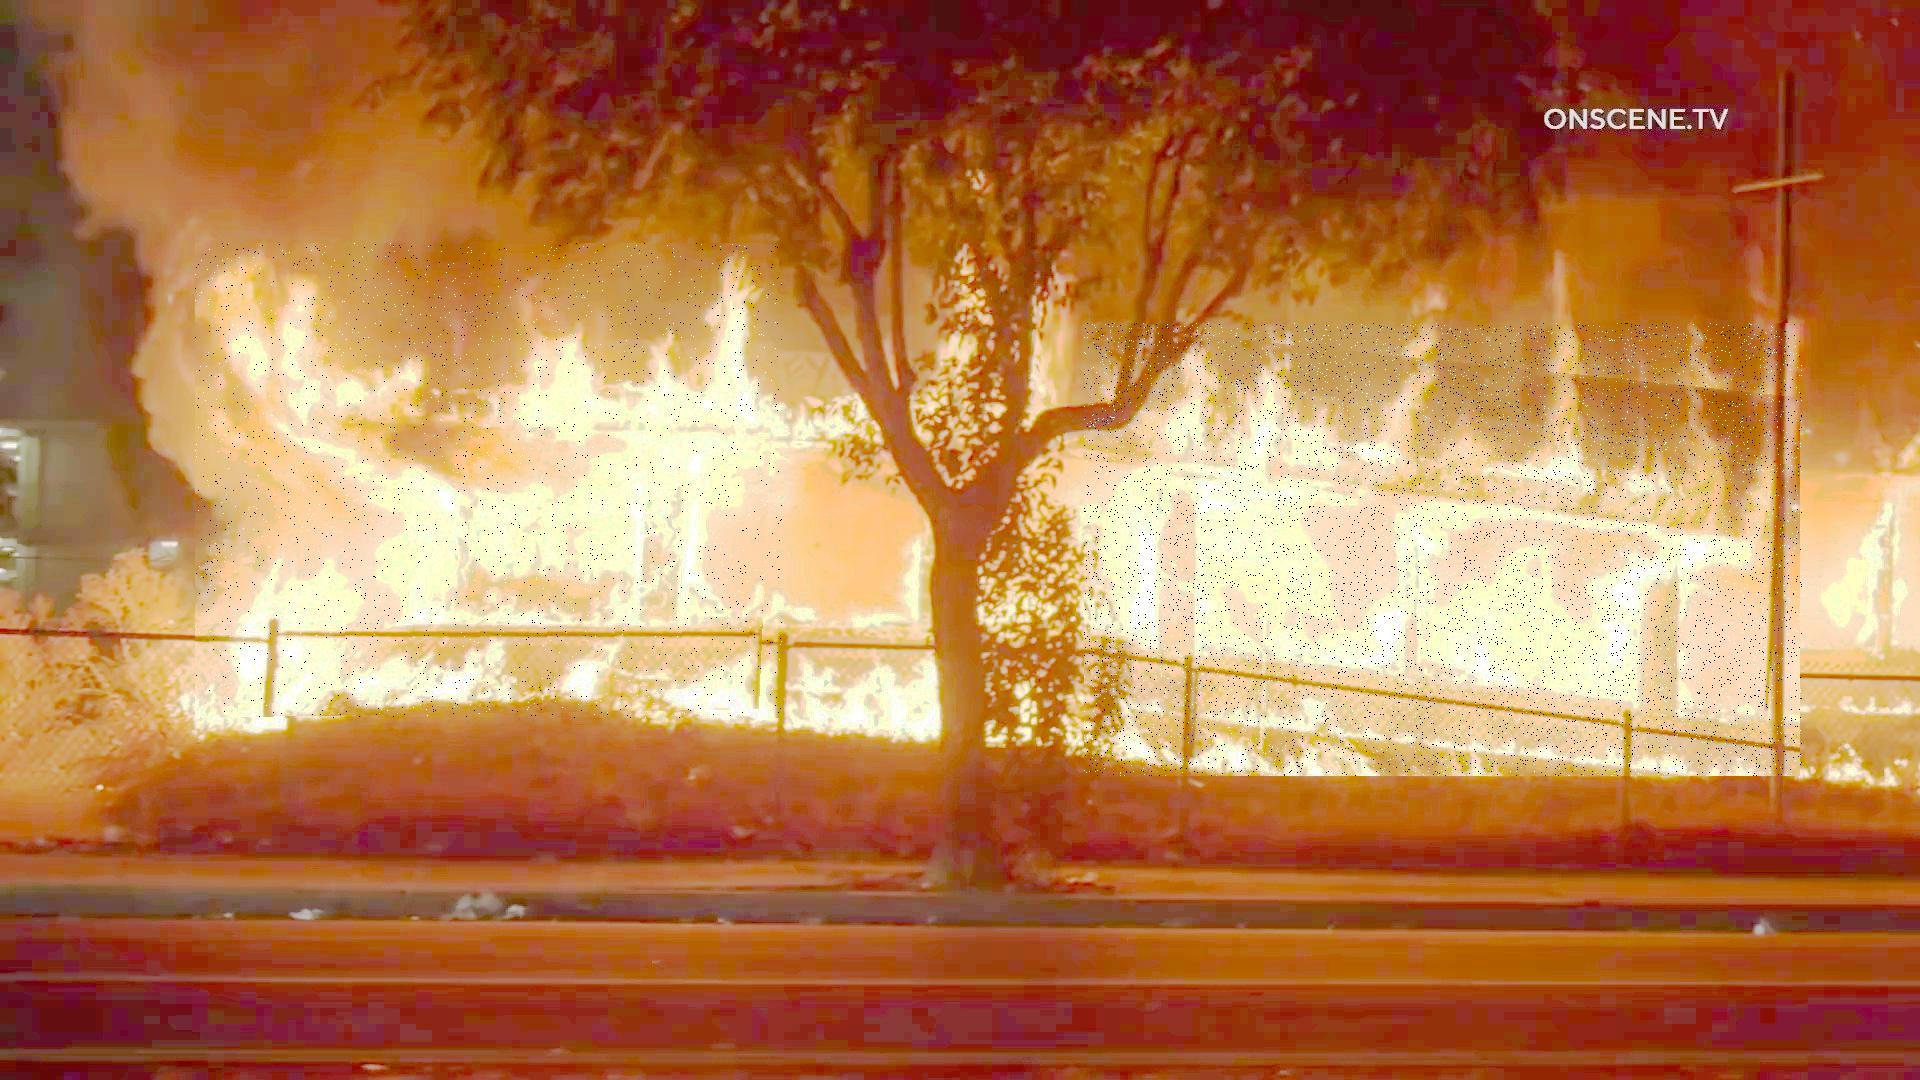fire: (1085, 323, 1803, 777), (195, 243, 783, 719)
